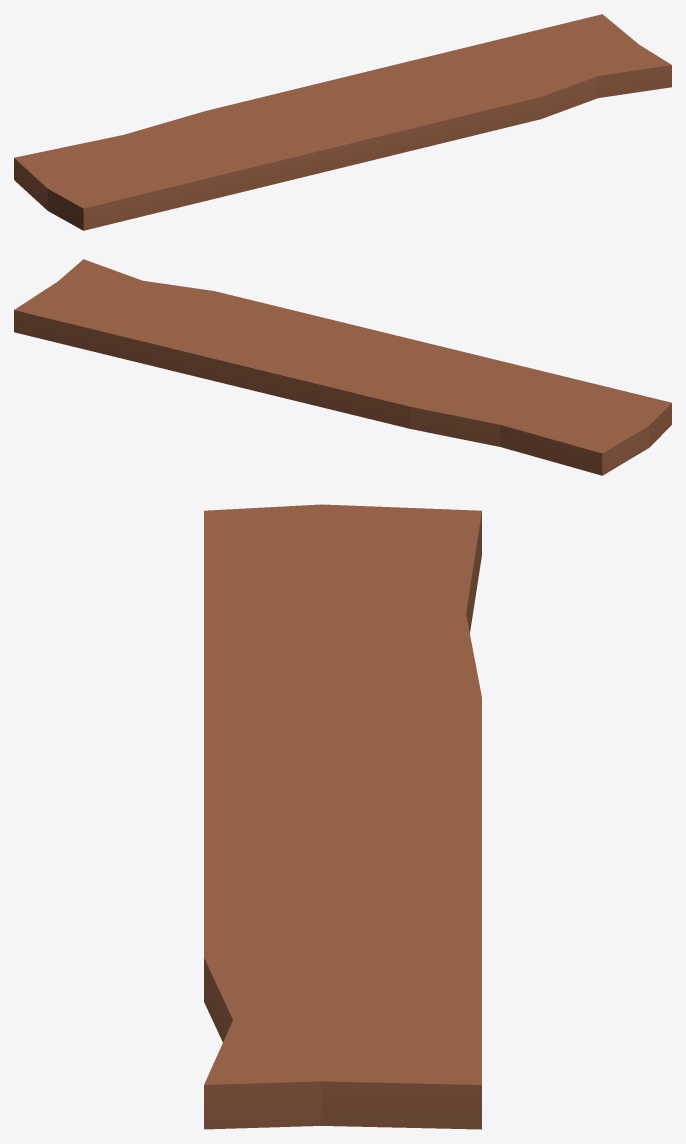
The model's file is board-3.glb.
3 renders of one model, top to bottom at view 1: azimuth 30°, elevation 25°; view 2: azimuth 150°, elevation 25°; view 3: azimuth 270°, elevation 25°, orthographic. The views are drawn at different scales.
Visible parts, largest first — view 1: board 3; view 2: board 3; view 3: board 3.
Part boxes in pixels (x1,y1,x2,y2): board 3: (14,14,671,230); board 3: (14,259,671,475); board 3: (204,504,481,1129).
Bounding box in the file's own units: 3.28 × 0.1171 × 0.6637.
1 material, 1 textured.
